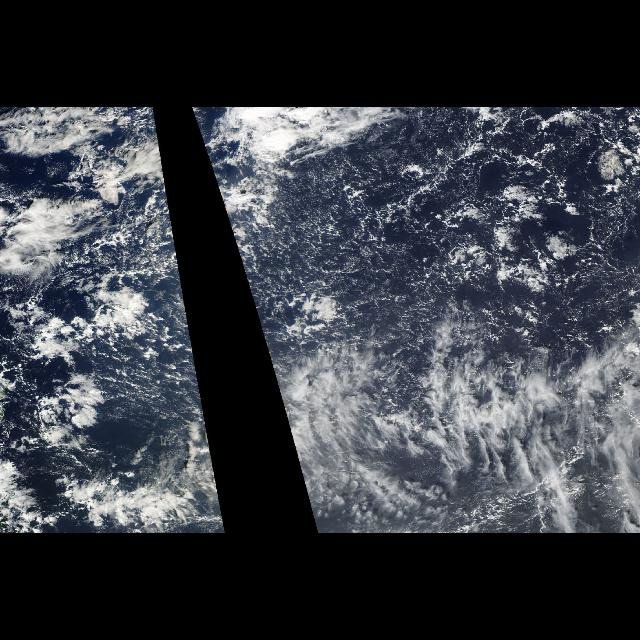Gravel: (207, 160, 589, 350), (132, 160, 194, 350)
